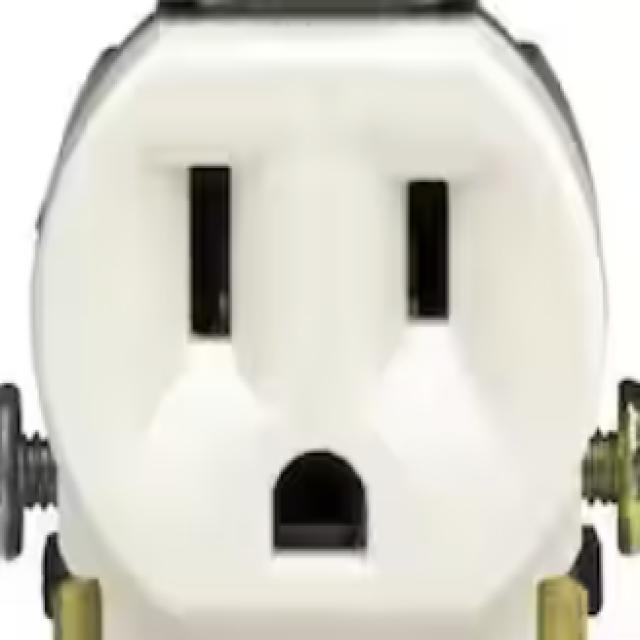type_b: (43, 32, 600, 610)
